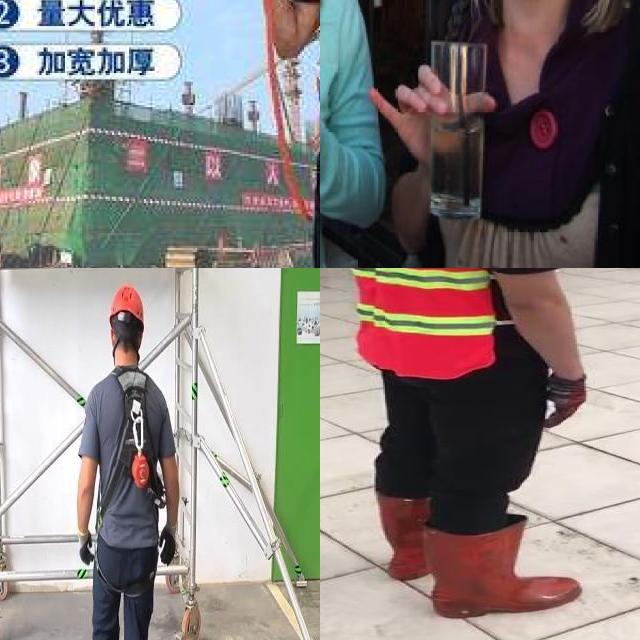Harness: (98, 369, 166, 528)
boots: (424, 520, 579, 620), (374, 492, 432, 580)
hand_glove: (543, 375, 586, 429)
hand_noglove: (364, 64, 502, 143)
person: (320, 268, 640, 630), (398, 0, 640, 268), (320, 0, 392, 268)
vest: (328, 268, 506, 378)
